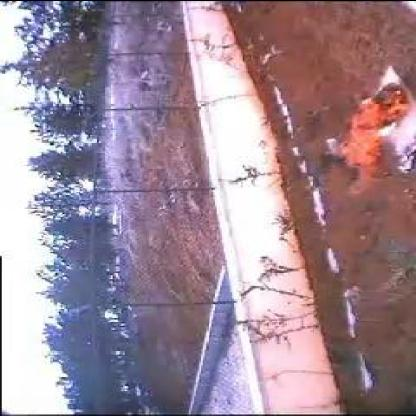foggia-v2-map80-epoch100 - v1 4323: (343, 83, 411, 166)
